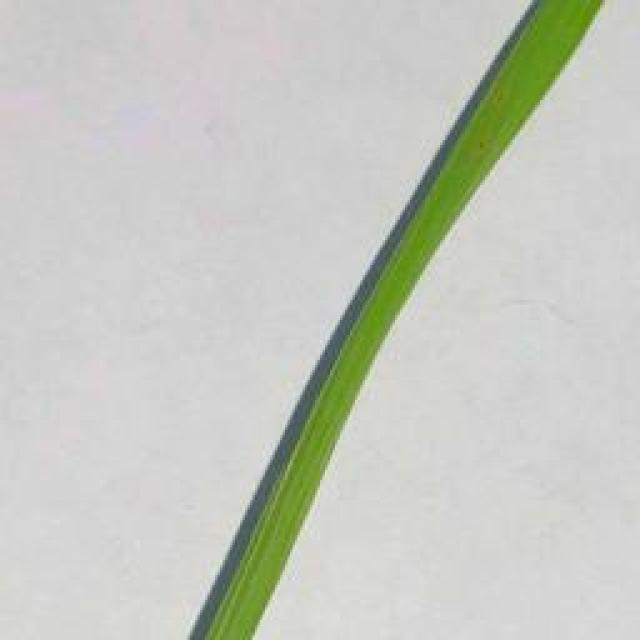Brown_Spot: (487, 82, 509, 111), (481, 137, 492, 155)
